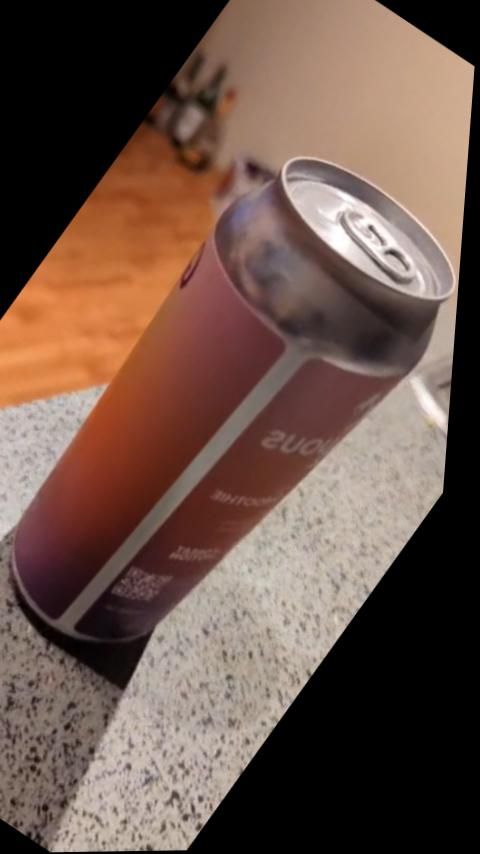metal: (11, 156, 454, 641)
